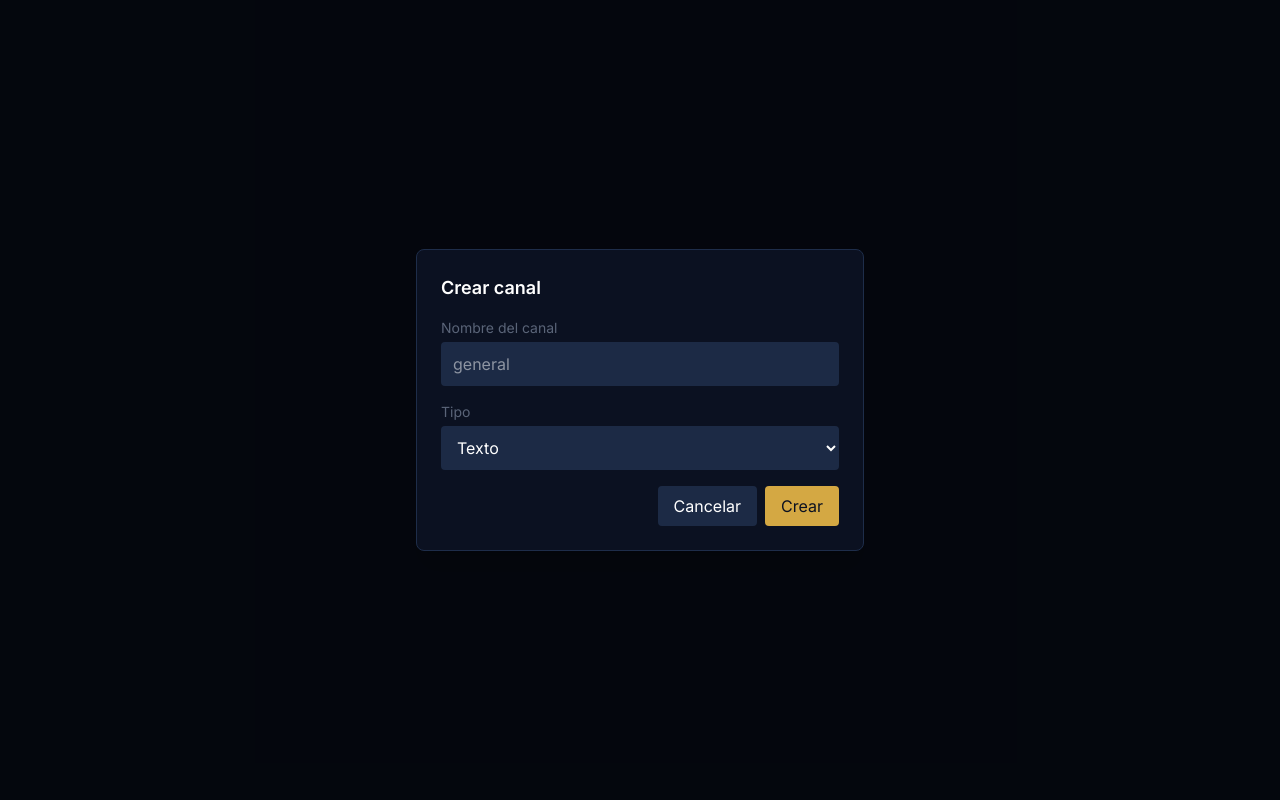
CreateChannelModal › displays error when backendFetch response is not ok
This screenshot has width=1280, height=800.
Type "duplicate" into the field with placeholder "general".
click(640, 364); type("duplicate")  # box [441,342,839,386]
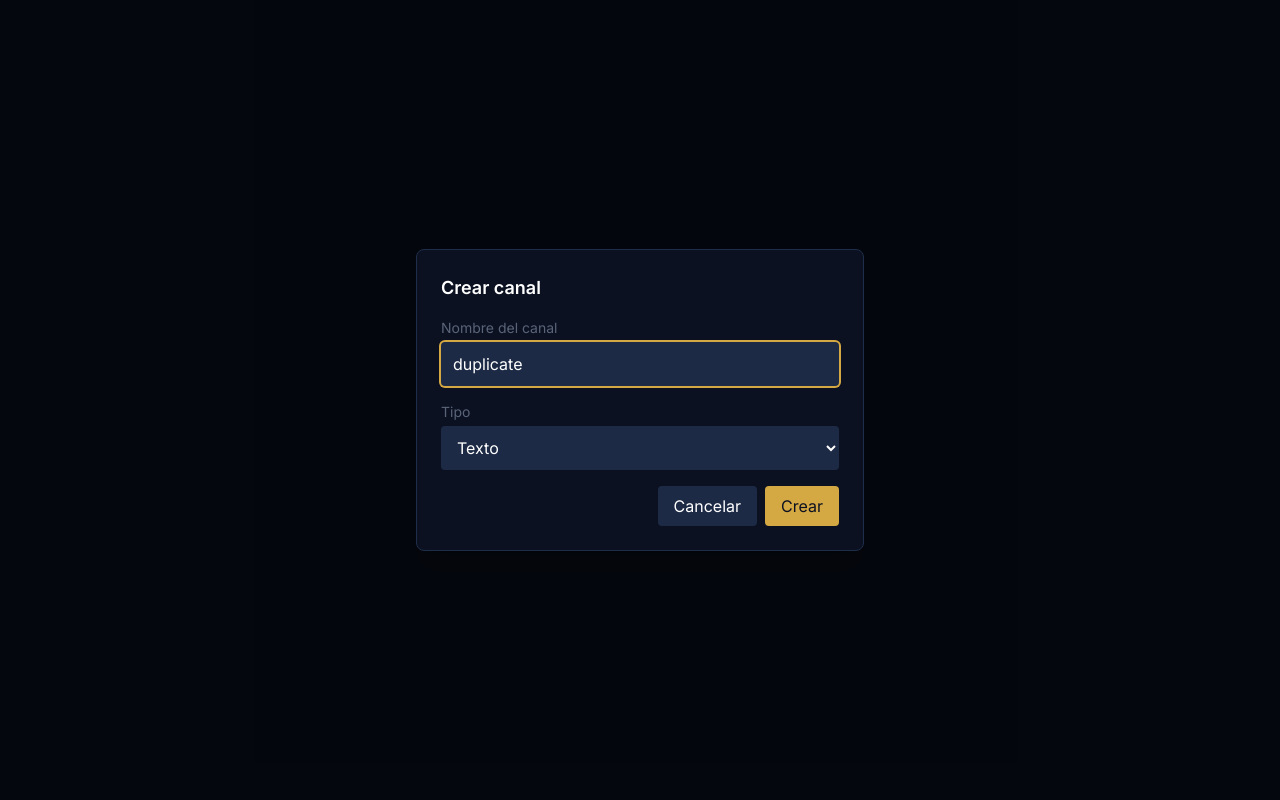
Click the button "Crear".
click(802, 506)  # box [765,486,839,526]
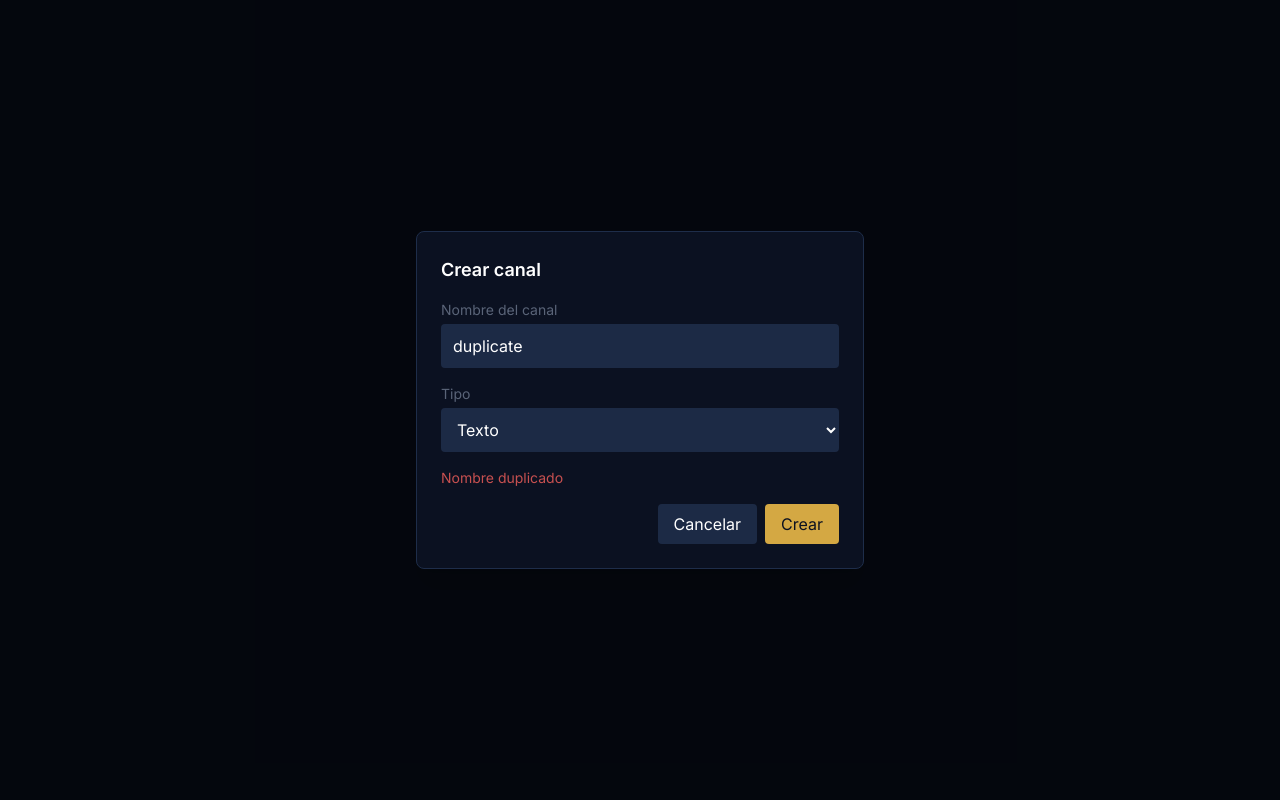
Now the text "Nombre duplicado" is shown, box [441,469,563,486]
